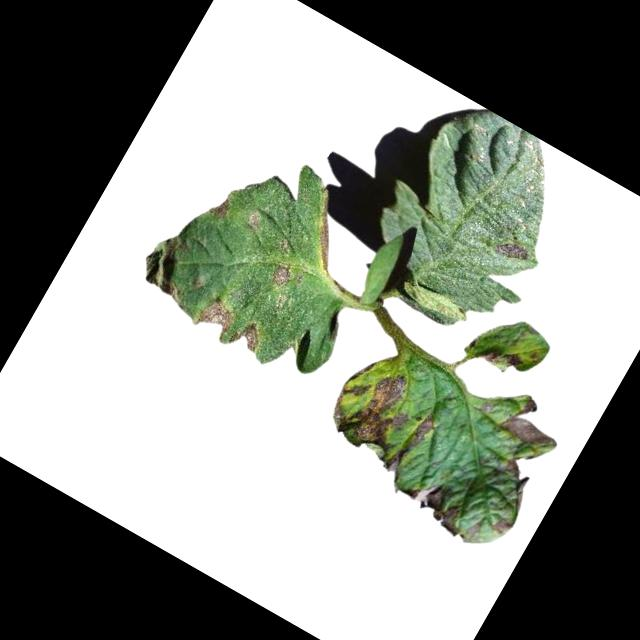Early_blight: (320, 348, 429, 461), (394, 464, 475, 536), (291, 192, 357, 270), (495, 391, 569, 457), (382, 406, 439, 481), (485, 455, 548, 522), (193, 291, 241, 340), (476, 335, 526, 380), (226, 315, 269, 358), (495, 233, 534, 268), (206, 191, 236, 223), (268, 258, 297, 288), (487, 512, 515, 540)
